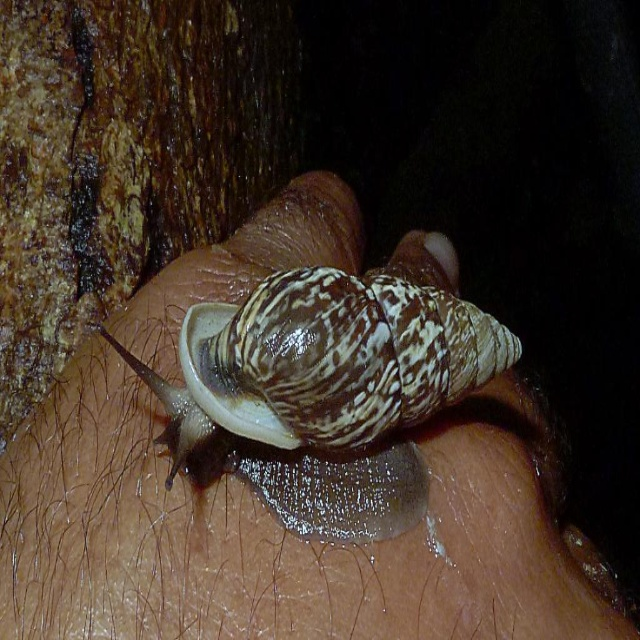Snail: (96, 265, 526, 549)
